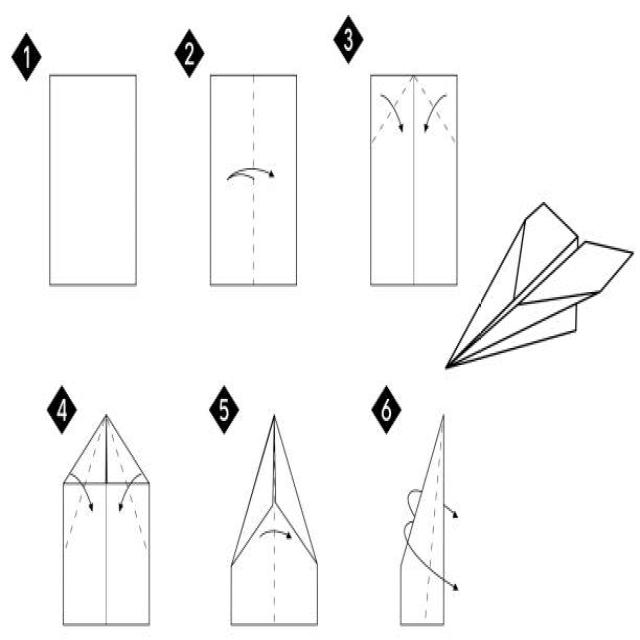arrow: (400, 518, 462, 594), (381, 94, 403, 132), (424, 94, 446, 132), (70, 474, 93, 510), (119, 474, 142, 510), (402, 483, 422, 522), (227, 167, 273, 179), (261, 530, 291, 539)
fold-line: (103, 411, 151, 555), (63, 413, 108, 553), (422, 413, 447, 626), (368, 72, 416, 149), (413, 73, 459, 151), (251, 70, 258, 296), (411, 71, 418, 292), (271, 412, 278, 631), (103, 483, 109, 632)
